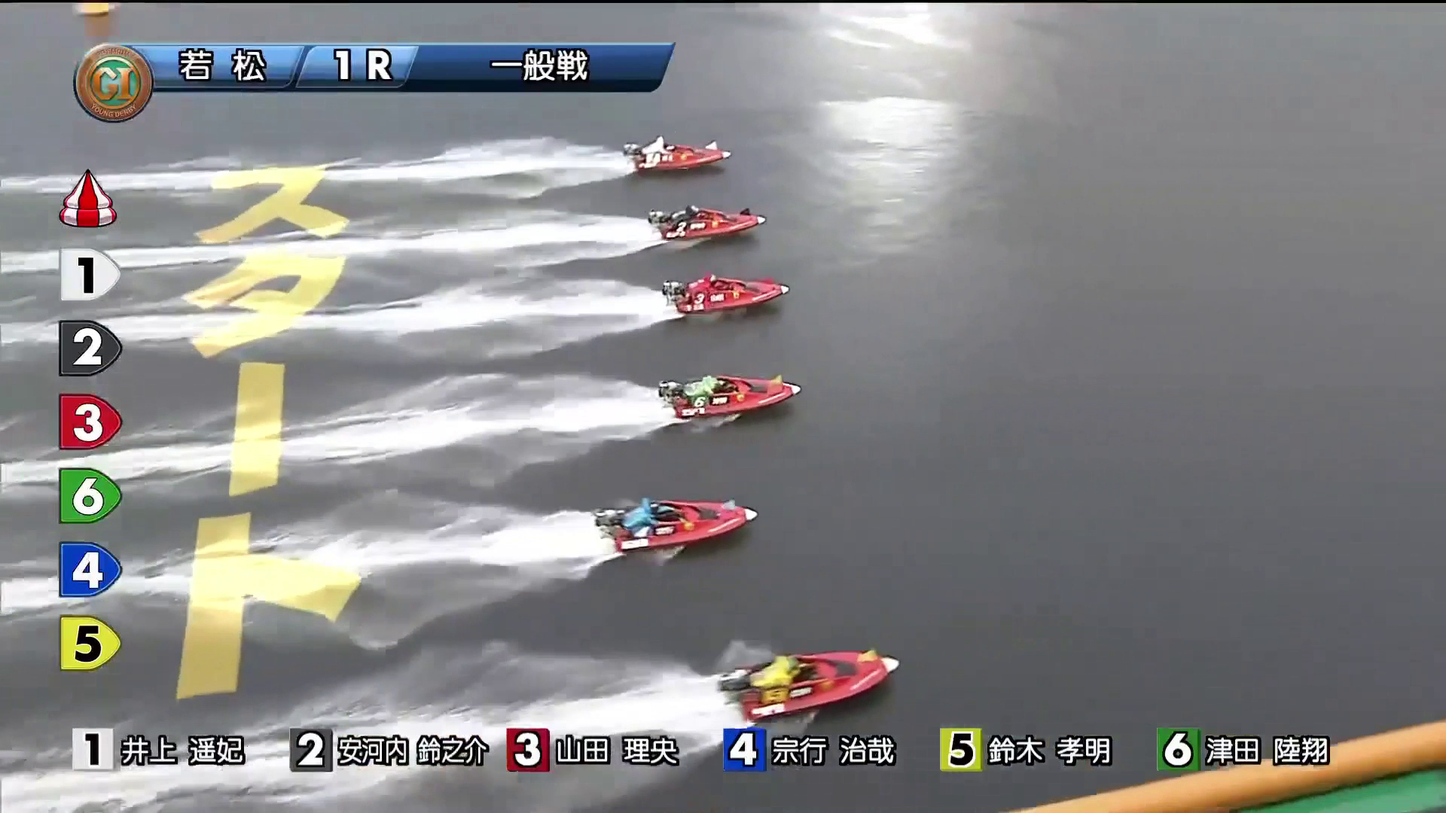１号艇: (635, 131, 711, 171)
２号艇: (657, 200, 760, 238)
３号艇: (673, 268, 798, 310)
４号艇: (683, 361, 788, 404)
５号艇: (616, 495, 736, 550)
６号艇: (722, 647, 880, 704)
